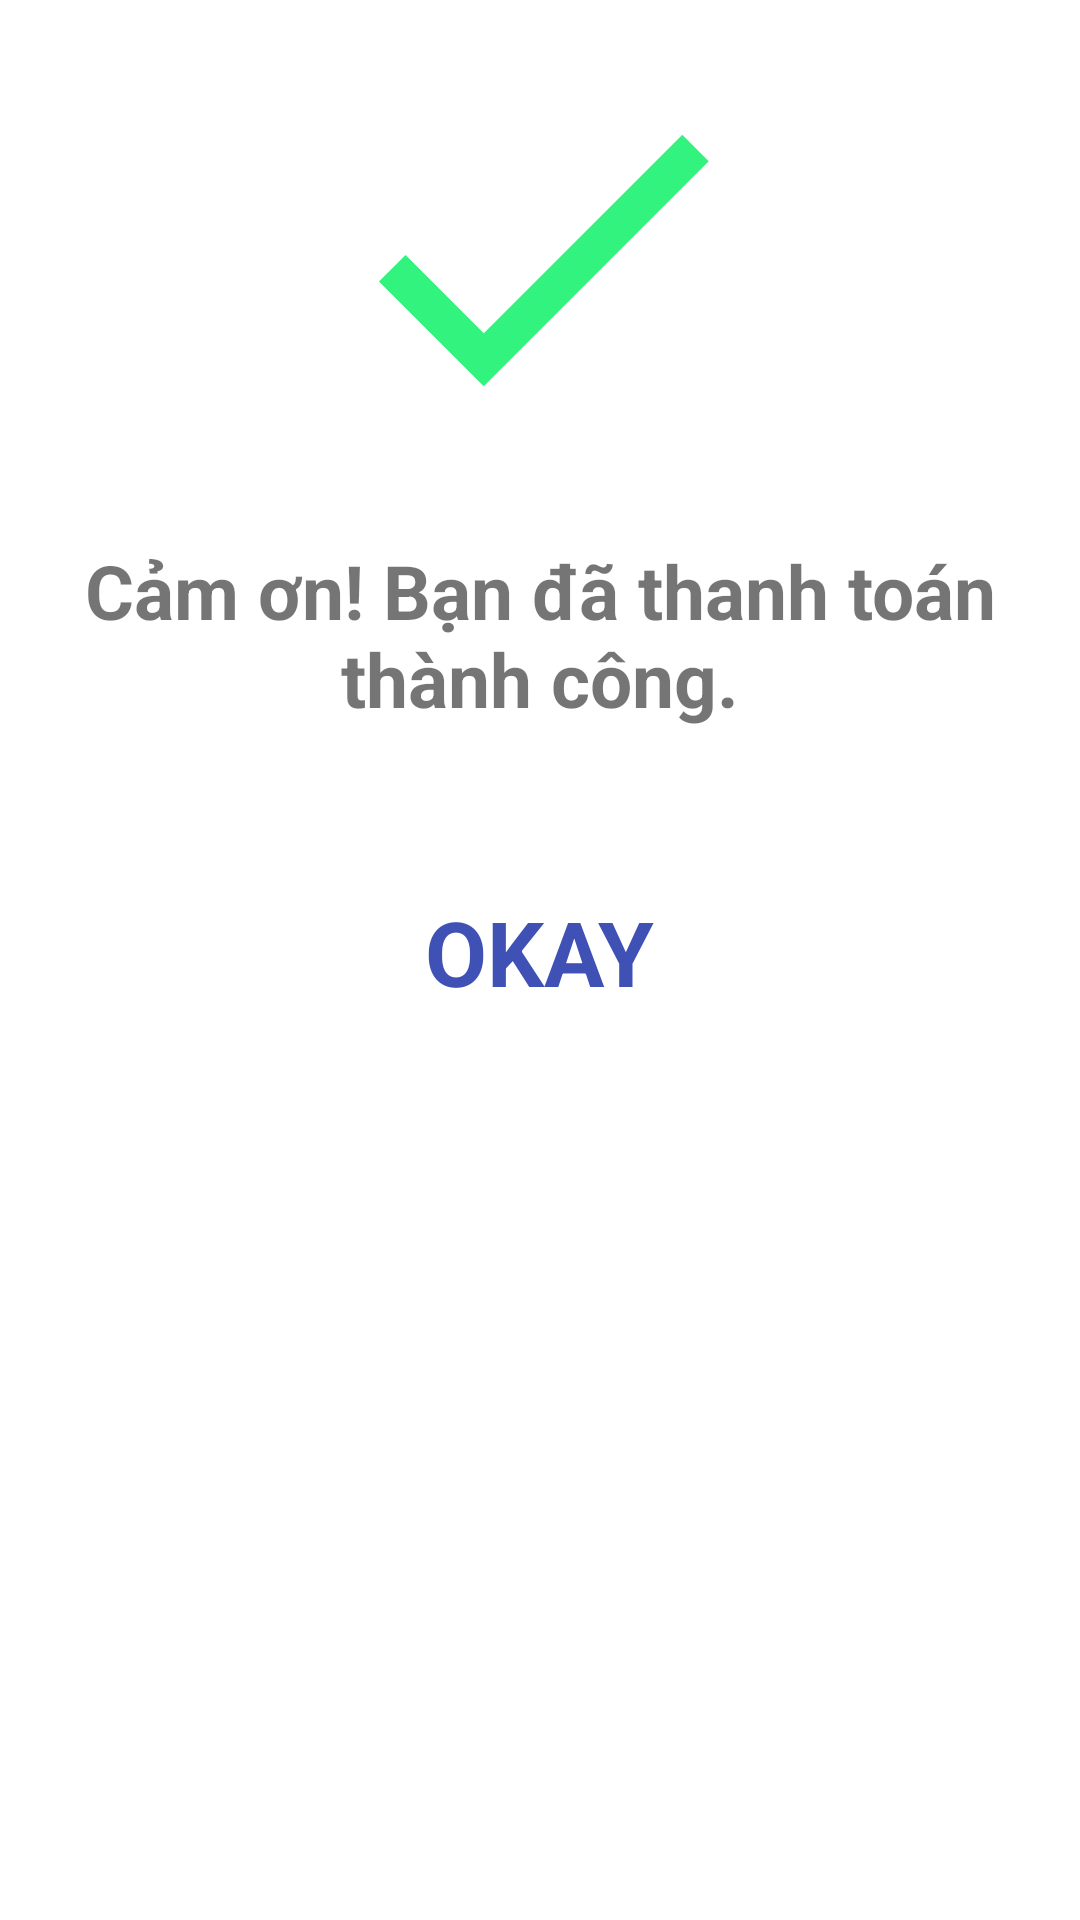

Locate icon controls on the screen. Image size 1080×1920, boxes as bbox=[x1, y1, x2, y2].
success: bbox=[379, 135, 709, 386]
